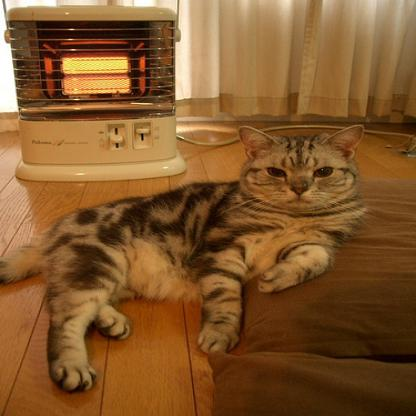cat: (4, 110, 378, 392)
